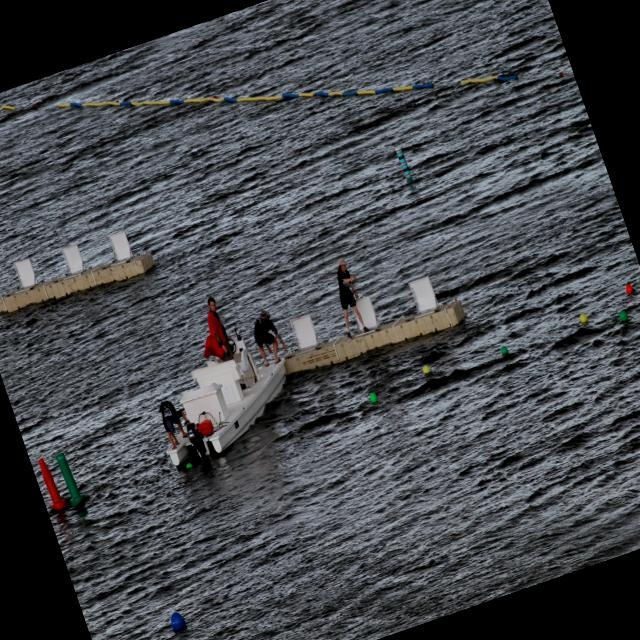buoy: (164, 608, 190, 636), (366, 389, 381, 406), (576, 308, 590, 325), (497, 342, 511, 357), (616, 306, 629, 322), (420, 361, 432, 376), (624, 282, 636, 295), (184, 460, 193, 470)
